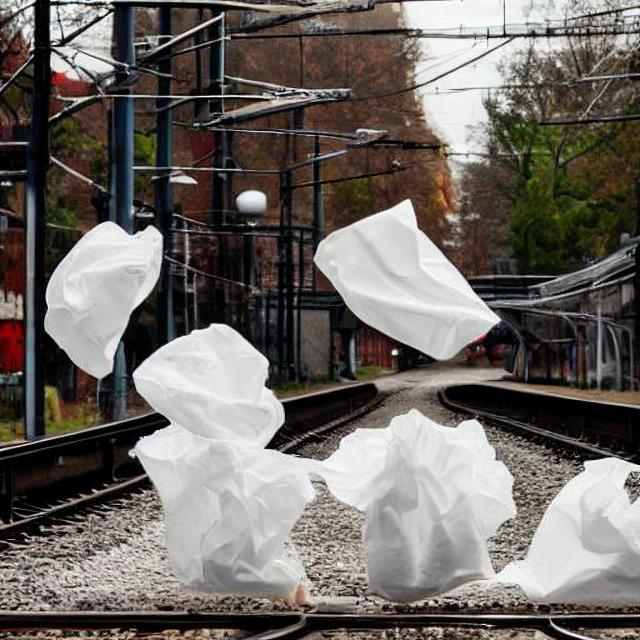plastic bag: (170, 320, 640, 624), (313, 198, 497, 354), (39, 192, 164, 356)
